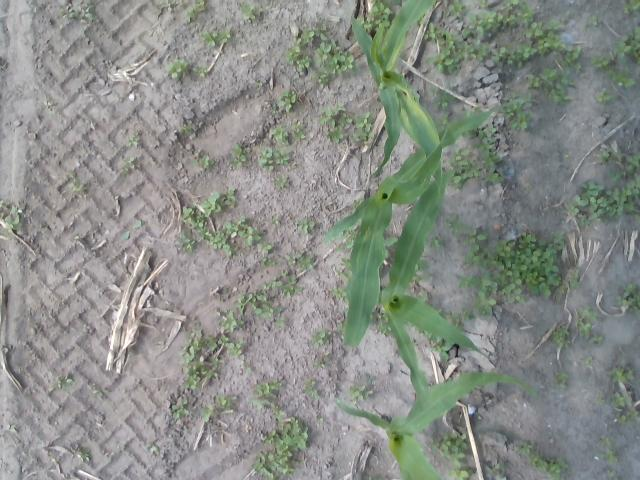Maize: (323, 98, 522, 345), (379, 167, 497, 396), (338, 372, 536, 480), (351, 2, 443, 192)
Weeds: (182, 277, 282, 390), (430, 3, 581, 74), (496, 231, 578, 303), (175, 204, 272, 258), (250, 397, 308, 480), (288, 24, 354, 88), (566, 180, 640, 229), (320, 103, 376, 146), (448, 149, 504, 186), (526, 69, 576, 104), (462, 226, 496, 266), (434, 432, 468, 468), (502, 94, 534, 128), (528, 455, 568, 480), (615, 27, 640, 66), (612, 149, 640, 181), (456, 269, 498, 290), (606, 359, 636, 383), (365, 1, 390, 28), (616, 284, 640, 311), (200, 191, 222, 217), (474, 290, 496, 316), (285, 250, 315, 269), (254, 379, 282, 398), (608, 66, 634, 85), (46, 376, 76, 392), (165, 58, 188, 78), (282, 276, 304, 296), (446, 216, 468, 236), (278, 88, 296, 112), (432, 338, 451, 360), (120, 220, 142, 239), (258, 146, 274, 170), (1, 215, 20, 235), (553, 327, 571, 348), (348, 386, 373, 401), (230, 144, 247, 166), (311, 328, 330, 347), (269, 125, 288, 144), (474, 131, 494, 149), (172, 398, 189, 419), (217, 394, 236, 412), (448, 468, 476, 480), (190, 155, 215, 168), (489, 460, 508, 477), (446, 0, 464, 17), (76, 5, 96, 20), (69, 170, 83, 191), (445, 310, 463, 326), (199, 405, 215, 422), (302, 380, 318, 397), (590, 54, 610, 67), (376, 314, 389, 334), (292, 120, 305, 140), (219, 188, 235, 204), (581, 304, 597, 320), (610, 392, 626, 408), (240, 4, 256, 20), (276, 149, 291, 166), (594, 450, 614, 462), (274, 173, 290, 187), (298, 220, 314, 234), (624, 0, 640, 14), (438, 93, 454, 107), (414, 264, 428, 280), (123, 156, 135, 174), (201, 31, 216, 45), (59, 6, 76, 18), (216, 28, 230, 42), (554, 371, 567, 385), (334, 243, 354, 252), (11, 204, 25, 216), (437, 115, 448, 130), (486, 123, 497, 138), (336, 268, 352, 278), (424, 22, 434, 38), (602, 436, 618, 446), (578, 320, 590, 333), (77, 447, 89, 460), (314, 358, 328, 369), (260, 257, 276, 266), (128, 135, 140, 147), (598, 150, 609, 163), (504, 0, 518, 10), (192, 67, 206, 77), (332, 287, 347, 296), (518, 444, 533, 453), (431, 236, 442, 248), (240, 361, 251, 373), (626, 408, 638, 419), (598, 92, 611, 102), (590, 335, 604, 344), (344, 228, 356, 238), (194, 0, 206, 10), (180, 124, 192, 134), (588, 15, 597, 28), (614, 414, 627, 423), (386, 237, 398, 246), (463, 310, 475, 319), (274, 317, 284, 327), (418, 292, 429, 301), (93, 390, 108, 396), (429, 86, 437, 97), (150, 445, 160, 453), (607, 468, 617, 476), (582, 356, 592, 363), (188, 10, 195, 20), (271, 217, 279, 225), (598, 394, 604, 404), (479, 0, 488, 6), (280, 269, 288, 275), (118, 444, 126, 450), (315, 417, 324, 422), (420, 17, 425, 24)
